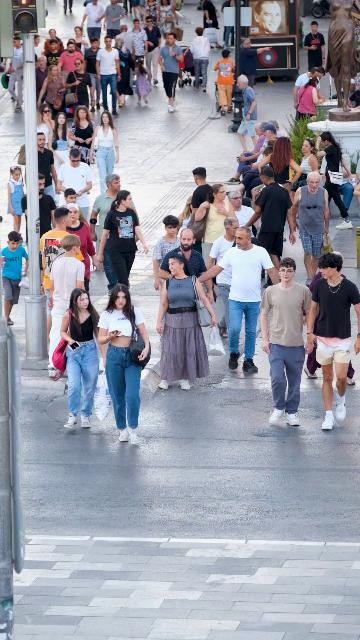person: (195, 226, 280, 375), (305, 251, 360, 430), (258, 257, 313, 427), (96, 283, 150, 446), (156, 252, 217, 391), (59, 287, 105, 430), (244, 166, 296, 289), (40, 207, 84, 343), (46, 232, 86, 378), (97, 190, 149, 295), (90, 172, 135, 286), (290, 172, 330, 287), (158, 226, 214, 303), (207, 216, 240, 339), (318, 131, 358, 230), (194, 183, 237, 265), (234, 122, 277, 199), (257, 136, 304, 198), (65, 202, 97, 292), (0, 231, 29, 326), (57, 148, 94, 222), (2, 36, 38, 112), (20, 173, 60, 241), (225, 122, 267, 185), (152, 216, 182, 304), (88, 110, 119, 195), (157, 32, 185, 113), (95, 36, 121, 116), (236, 74, 261, 154), (65, 58, 96, 119), (37, 132, 61, 210), (67, 105, 96, 166), (239, 38, 273, 89), (239, 147, 273, 198), (227, 190, 262, 238), (38, 65, 70, 117), (6, 165, 27, 242), (48, 112, 74, 174), (82, 36, 102, 113), (291, 138, 319, 192), (293, 66, 326, 111), (213, 49, 235, 116), (113, 37, 134, 107), (189, 27, 211, 92), (294, 78, 325, 123), (143, 15, 161, 85), (81, 0, 106, 47), (303, 21, 325, 74), (157, 0, 178, 55), (191, 166, 213, 218), (58, 42, 84, 85), (113, 24, 136, 71), (103, 0, 125, 48), (37, 103, 56, 154), (132, 59, 151, 106), (202, 0, 220, 49), (131, 19, 148, 68), (251, 139, 277, 166), (221, 0, 235, 49), (177, 196, 193, 238), (35, 55, 49, 99), (142, 0, 159, 30), (43, 28, 60, 56), (74, 26, 91, 51), (60, 188, 79, 209), (269, 120, 288, 137), (352, 181, 360, 218), (130, 0, 143, 22), (170, 0, 183, 22), (123, 0, 131, 15), (356, 157, 360, 186), (65, 39, 76, 47)
